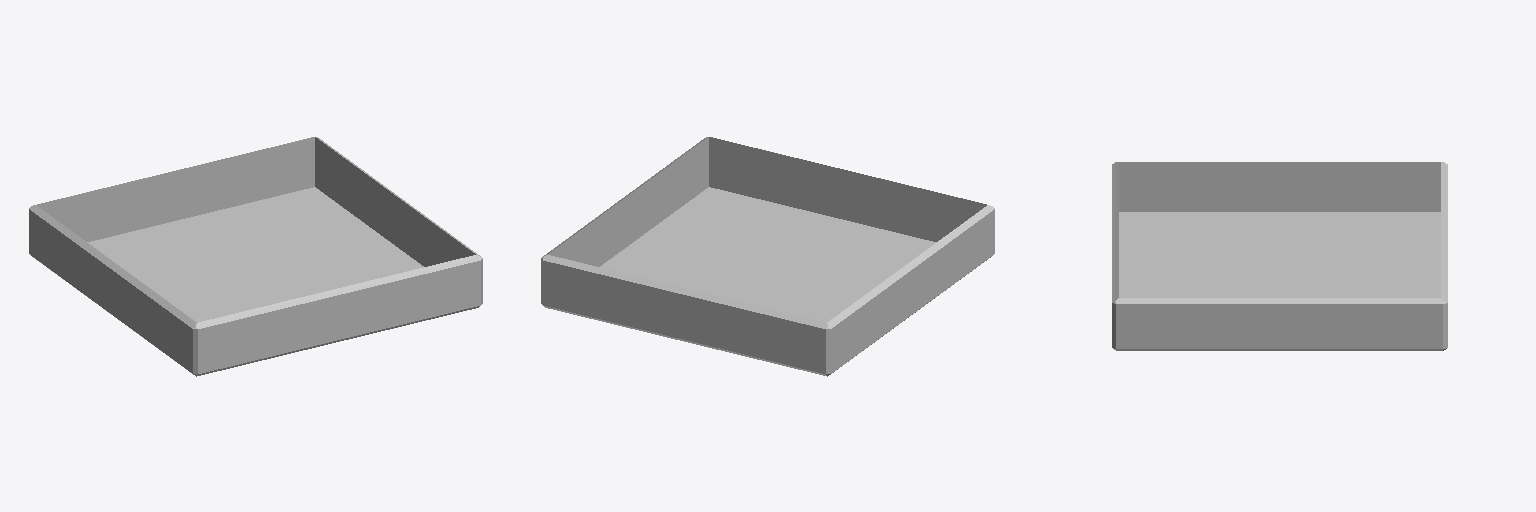
Rendered from wirecover.obj.
The picture shows the model from 3 angles: view 1: azimuth 30°, elevation 25°; view 2: azimuth 150°, elevation 25°; view 3: azimuth 270°, elevation 25°; orthographic projection.
Parts seen in each view (by area): view 1: Cube; view 2: Cube; view 3: Cube.
Boxes of the visible parts, <box> form: Cube: <box>29,137,482,376</box>; Cube: <box>541,137,994,376</box>; Cube: <box>1112,162,1447,350</box>.
Bounding box in the file's own units: 0.015 × 0.0026 × 0.015.